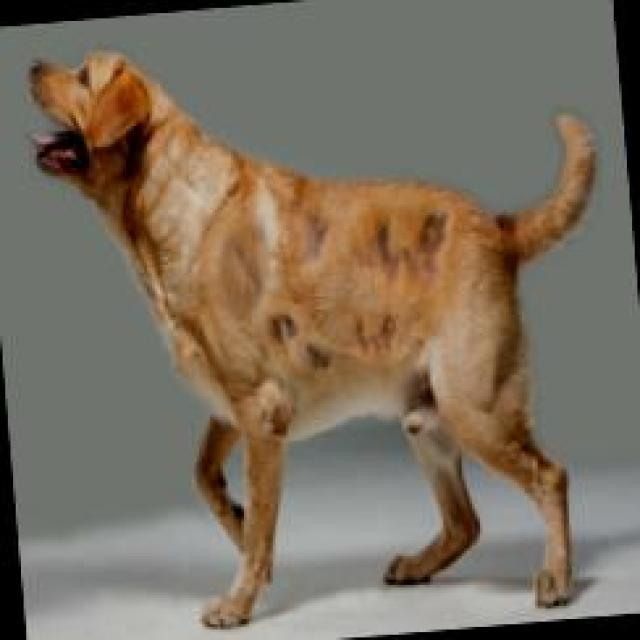fungal infection: (410, 206, 447, 263), (301, 204, 341, 256), (367, 199, 401, 260), (354, 310, 398, 357), (512, 414, 546, 474), (437, 493, 477, 534), (256, 397, 292, 440), (261, 306, 301, 342), (304, 342, 336, 377), (492, 208, 522, 240), (401, 406, 426, 441), (208, 467, 226, 495)
